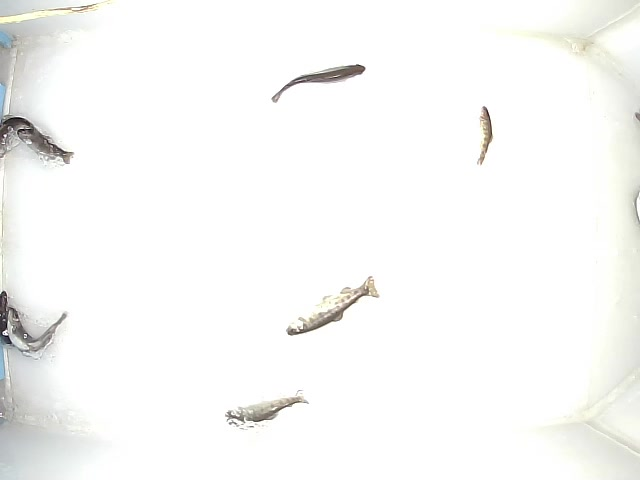fish: (286, 276, 378, 335), (267, 62, 365, 104), (7, 307, 71, 358), (223, 389, 307, 423), (476, 103, 494, 166)
